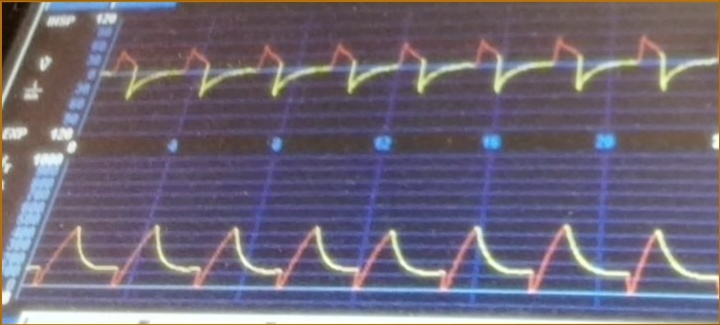Flow: (112, 22, 714, 127)
Leakage Volume: (47, 193, 715, 309)
